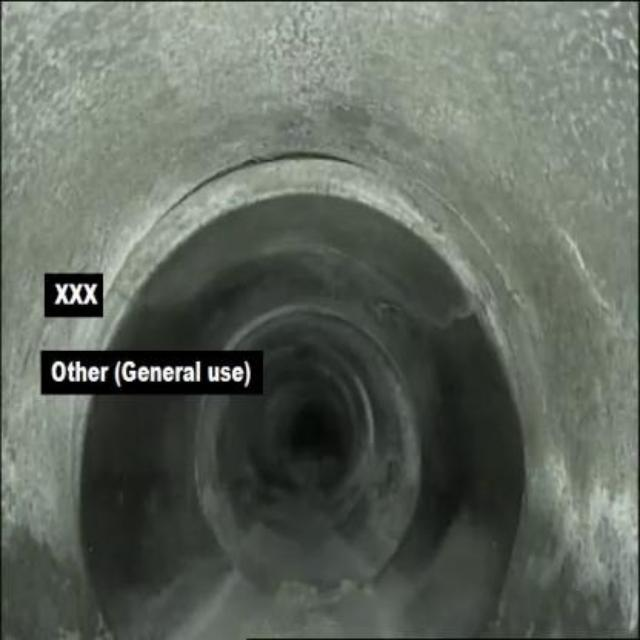Joint offset: (114, 94, 488, 298)
